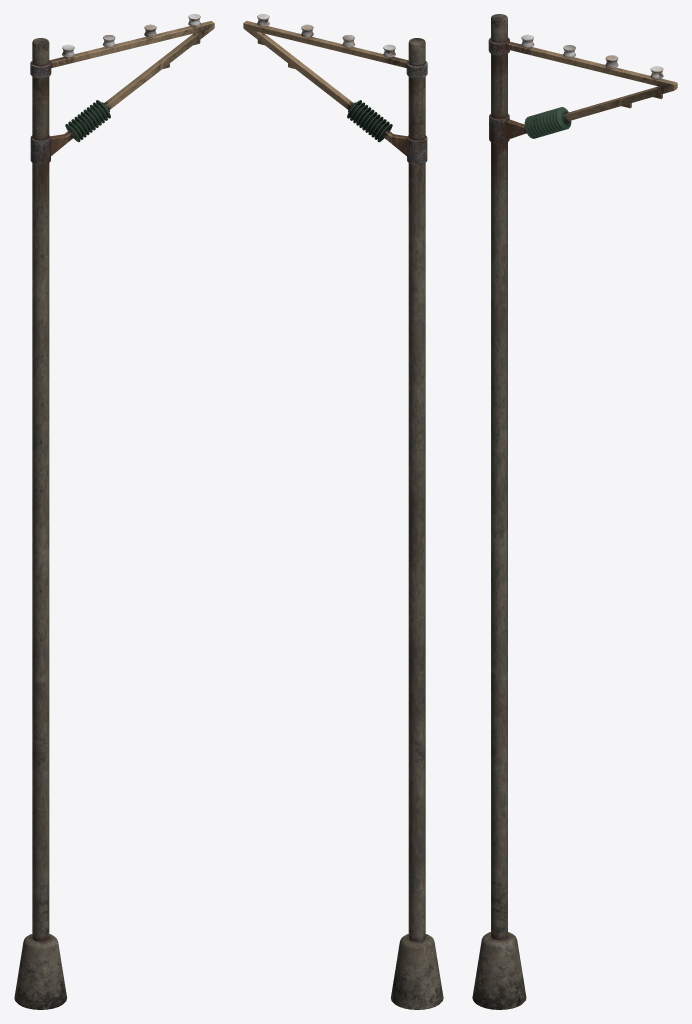
Rendered from rural_area_old_concrete_electric_utility_pole (1) (1).glb.
3 renders of one model, left to right at view 1: azimuth 30°, elevation 25°; view 2: azimuth 150°, elevation 25°; view 3: azimuth 330°, elevation 25°, orthographic. The views are drawn at different scales.
Parts seen in each view (by area): view 1: Cylinder, Cube, Cylinder.001; view 2: Cylinder, Cube, Cylinder.001; view 3: Cylinder, Cube, Cylinder.001.
Part boxes in pixels (<box>): Cylinder: <box>14,38,66,1009</box>; Cube: <box>49,21,214,155</box>; Cylinder.001: <box>65,100,110,142</box>; Cylinder: <box>391,38,443,1009</box>; Cube: <box>243,21,408,155</box>; Cylinder.001: <box>347,100,392,142</box>; Cylinder: <box>472,14,526,1009</box>; Cube: <box>506,41,677,139</box>; Cylinder.001: <box>524,107,571,138</box>.
Size of the model in its own units: 1.05 by 4.91 by 0.2452.
1 material, 1 textured.
